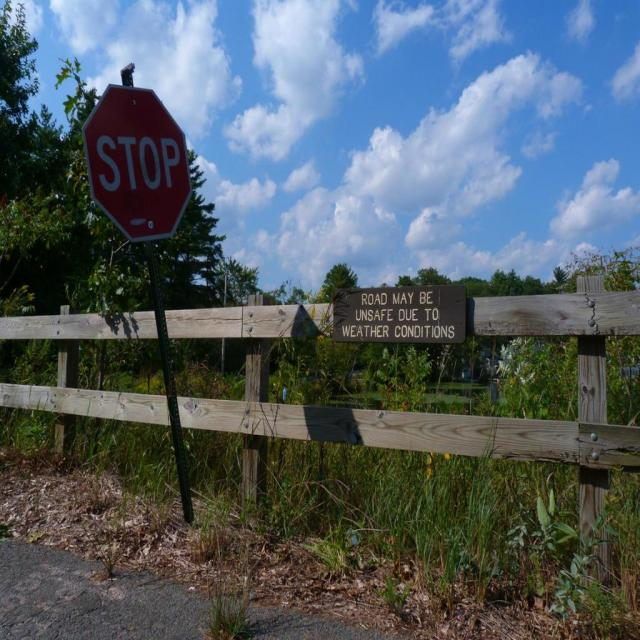Stop-sign: (80, 82, 192, 239)
